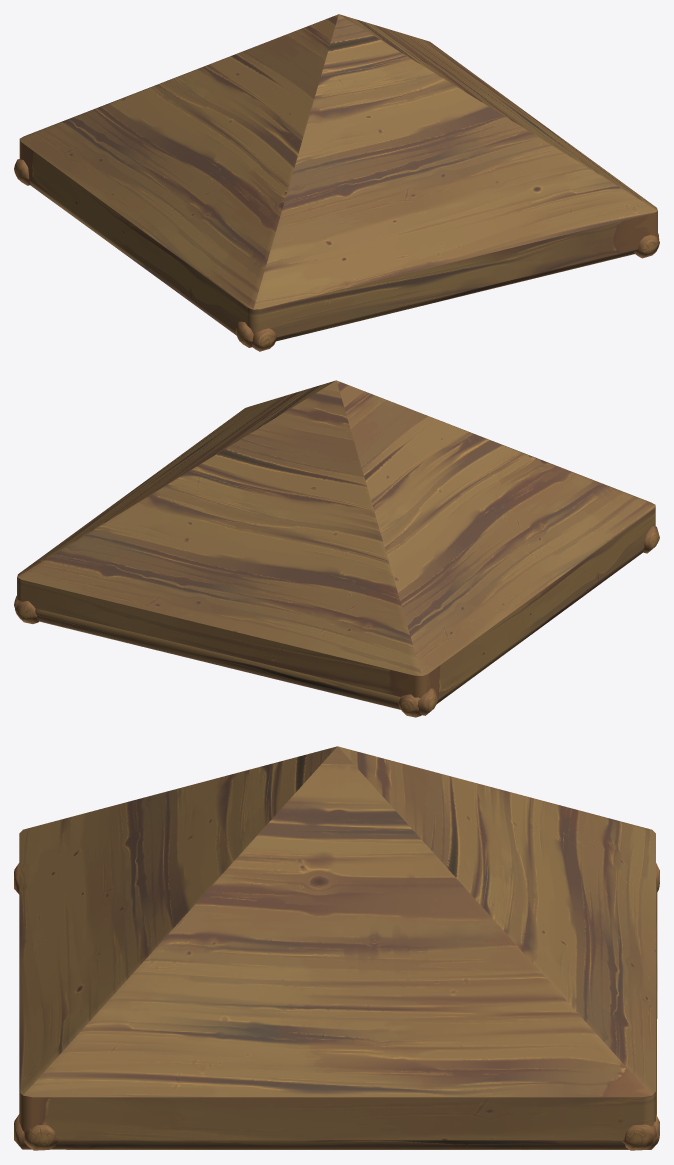
File: SM_MOD_roof_cap_cross_frame_town.fbx
3 renders of one model, top to bottom at view 1: azimuth 30°, elevation 25°; view 2: azimuth 150°, elevation 25°; view 3: azimuth 270°, elevation 25°, orthographic. The views are drawn at different scales.
Parts seen in each view (by area): view 1: SM_MOD_roof_cap_cross_frame_town_LOD0; view 2: SM_MOD_roof_cap_cross_frame_town_LOD0; view 3: SM_MOD_roof_cap_cross_frame_town_LOD0.
Boxes of the visible parts, x1=… form: SM_MOD_roof_cap_cross_frame_town_LOD0: x1=14, y1=14, x2=659, y2=351; SM_MOD_roof_cap_cross_frame_town_LOD0: x1=14, y1=380, x2=659, y2=717; SM_MOD_roof_cap_cross_frame_town_LOD0: x1=14, y1=746, x2=659, y2=1150.
Size of what is drawn, in the model's own units: 406 by 191 by 406.
